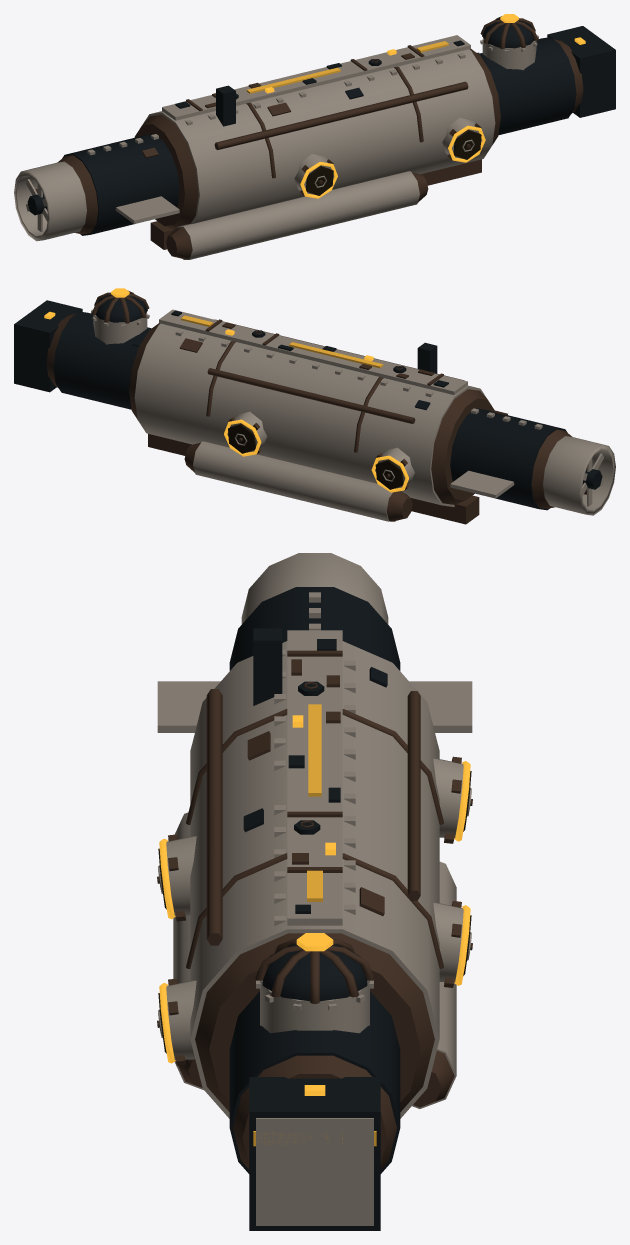
The model's file is verger-bathyarch.glb.
3 views of the same model, one above another, from view 1: azimuth 30°, elevation 25°; view 2: azimuth 150°, elevation 25°; view 3: azimuth 270°, elevation 25° (orthographic). The views are drawn at different scales.
Parts seen in each view (by area): view 1: can_1, can_2, ballast_s, can_3, can_0, drive_duct, deck_walk, bow_block, can_cap_2a, pipe_s, keel, fin_s (+14 smaller); view 2: can_2, can_1, ballast_p, can_3, can_0, drive_duct, deck_walk, bow_block, can_cap_2a, keel, pipe_p, fin_p (+16 smaller); view 3: can_1, can_2, bow_plate, deck_walk, can_cap_1f, can_0, bow_block, can_3, drive_duct, pipe_s, can_cap_0f, dome_skirt (+15 smaller).
Part boxes in pixels (box(x1,y1,x2,y2)): can_1: box(322, 49, 495, 187); can_2: box(142, 85, 347, 223); ballast_s: box(177, 171, 419, 259); can_3: box(62, 134, 179, 235); can_0: box(479, 37, 576, 135); drive_duct: box(14, 161, 86, 241); deck_walk: box(162, 35, 470, 120); bow_block: box(547, 26, 615, 117); can_cap_2a: box(134, 114, 198, 229); pipe_s: box(214, 81, 468, 150); keel: box(150, 159, 481, 249); fin_s: box(115, 196, 179, 223); can_2: box(282, 359, 486, 506); can_1: box(134, 323, 307, 461); ballast_p: box(193, 441, 395, 521); can_3: box(450, 408, 567, 510); can_0: box(53, 311, 151, 409); drive_duct: box(543, 436, 615, 515); deck_walk: box(159, 309, 467, 394); bow_block: box(14, 300, 82, 392); can_cap_2a: box(431, 389, 494, 504); keel: box(148, 434, 479, 524); pipe_p: box(207, 368, 415, 423); fin_p: box(450, 470, 514, 498); can_1: box(190, 785, 439, 1118); can_2: box(190, 641, 439, 894); bow_plate: box(256, 1118, 373, 1225); deck_walk: box(287, 630, 342, 925); can_cap_1f: box(195, 933, 434, 1111); can_0: box(229, 991, 400, 1173); bow_block: box(249, 1077, 380, 1230); can_3: box(229, 587, 400, 670); drive_duct: box(241, 553, 388, 624); pipe_s: box(206, 689, 222, 945); can_cap_0f: box(233, 1055, 396, 1169); dome_skirt: box(260, 980, 369, 1033).
Bounding box in the file's own units: 100 × 25.29 × 24.08.
